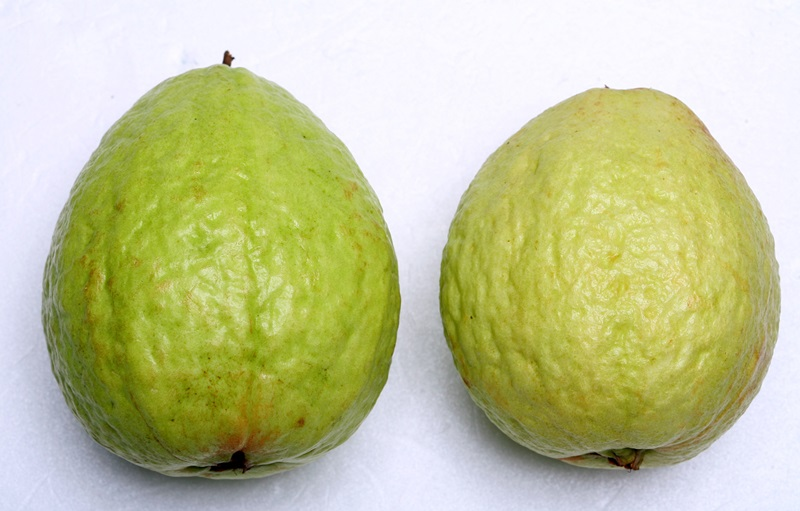guava: (41, 48, 405, 487), (436, 84, 785, 485)
